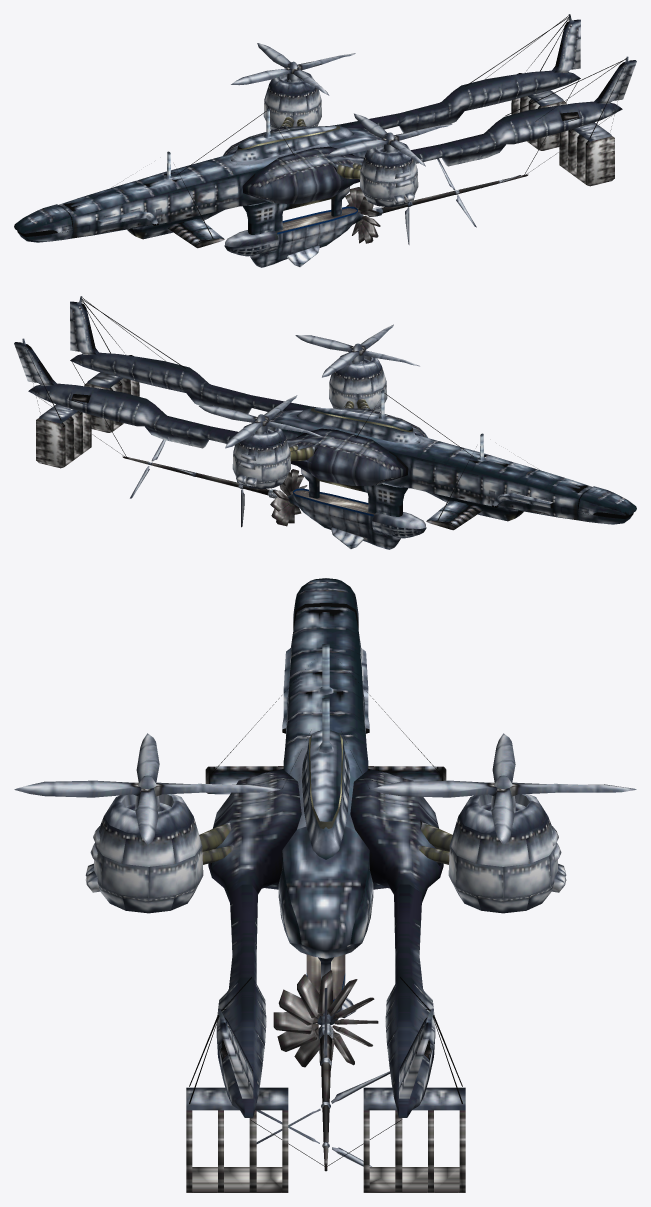
Rendered from Highwind.dae.
3 views of the same model, one above another, from view 1: azimuth 30°, elevation 25°; view 2: azimuth 150°, elevation 25°; view 3: azimuth 270°, elevation 25° (orthographic). The views are drawn at different scales.
Parts seen in each view (by area): view 1: Body, Turbine, PropL, PropR; view 2: Body, Turbine, PropR, PropL; view 3: Body, Turbine, PropR, PropL.
Boxes of the visible parts, x1,y1,x2,y2 form: Body: (14, 14, 636, 267); Turbine: (345, 158, 528, 244); PropL: (327, 113, 452, 166); PropR: (231, 43, 355, 95); Body: (14, 296, 636, 549); Turbine: (122, 439, 307, 527); PropR: (199, 395, 323, 448); PropL: (295, 324, 419, 377); Body: (85, 578, 566, 1192); Turbine: (256, 970, 390, 1171); PropR: (370, 733, 636, 844); PropL: (14, 733, 280, 844).
Bounding box in the file's own units: 1036 × 513 × 285.
4 materials, 4 textured.
